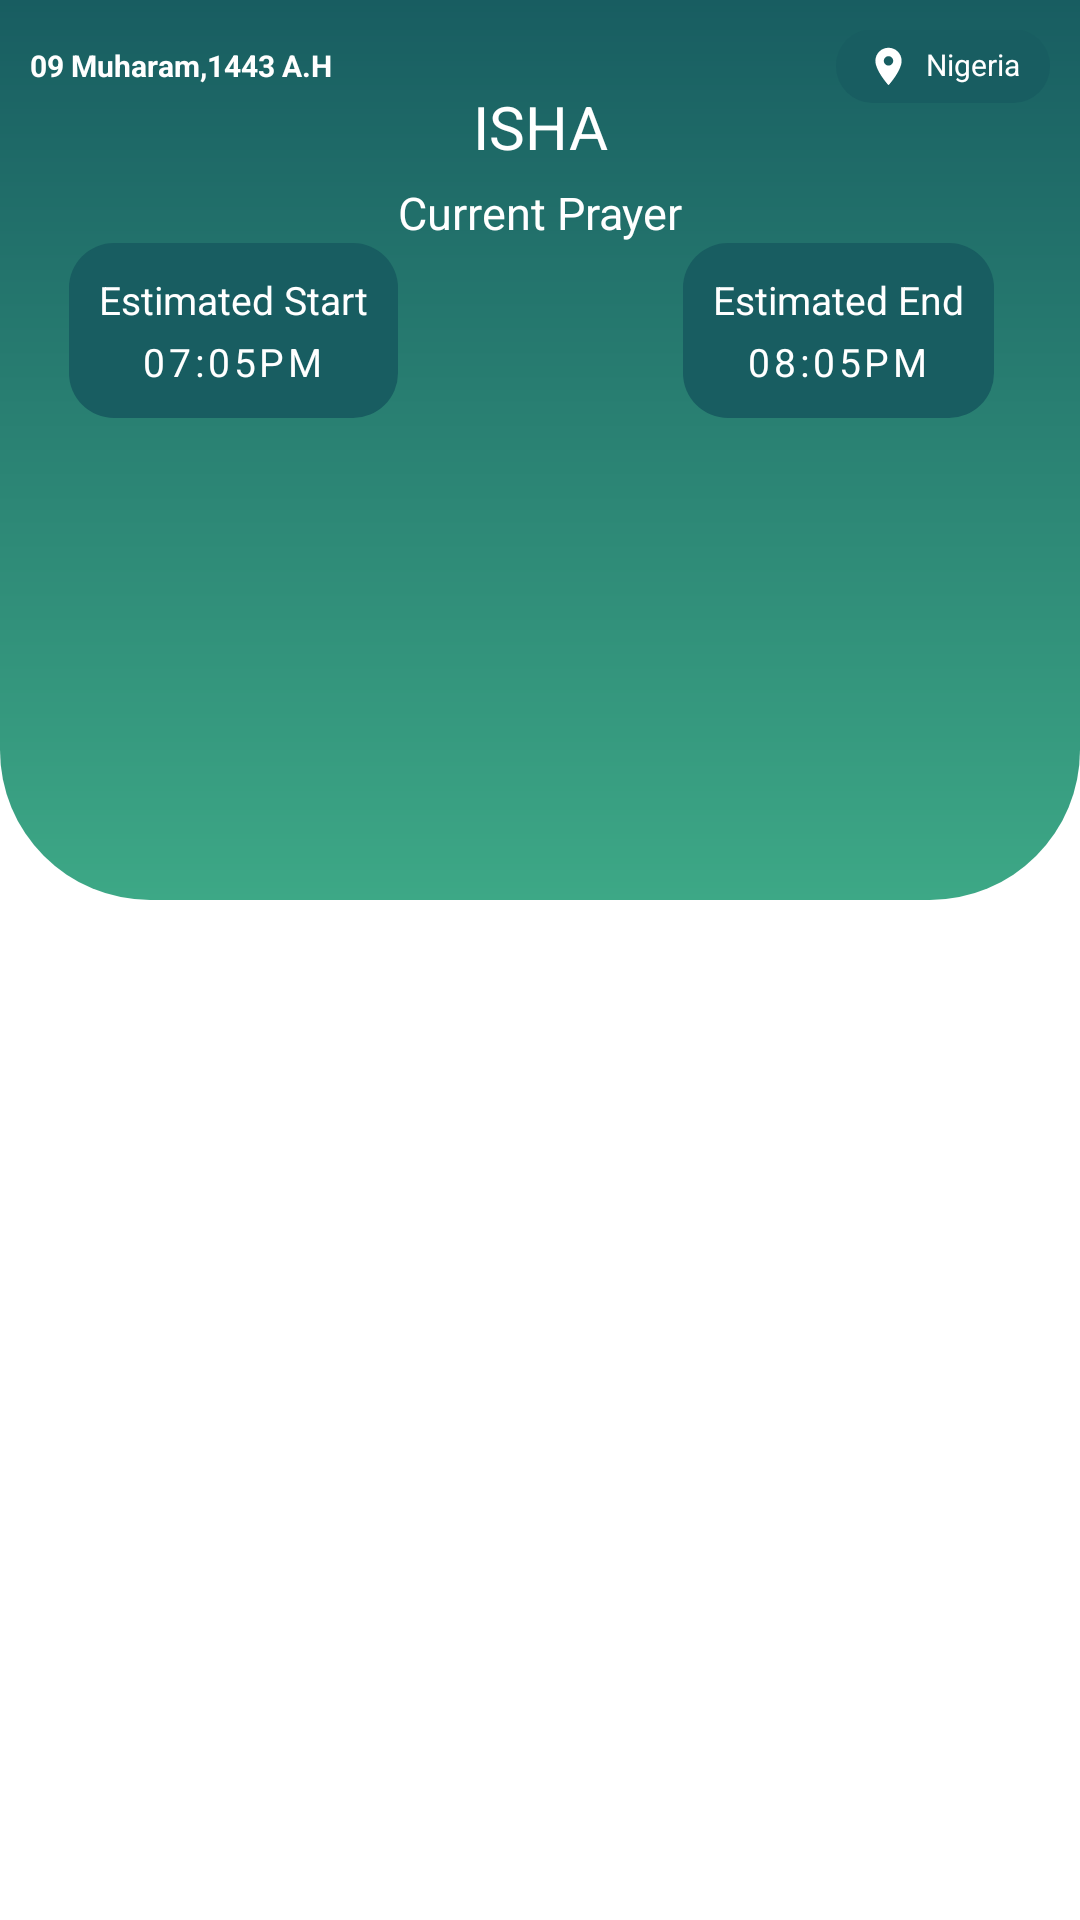

Where to tap for icons on this 1080px x 1920px app screen, as [x,y]:
location: [888,66]
